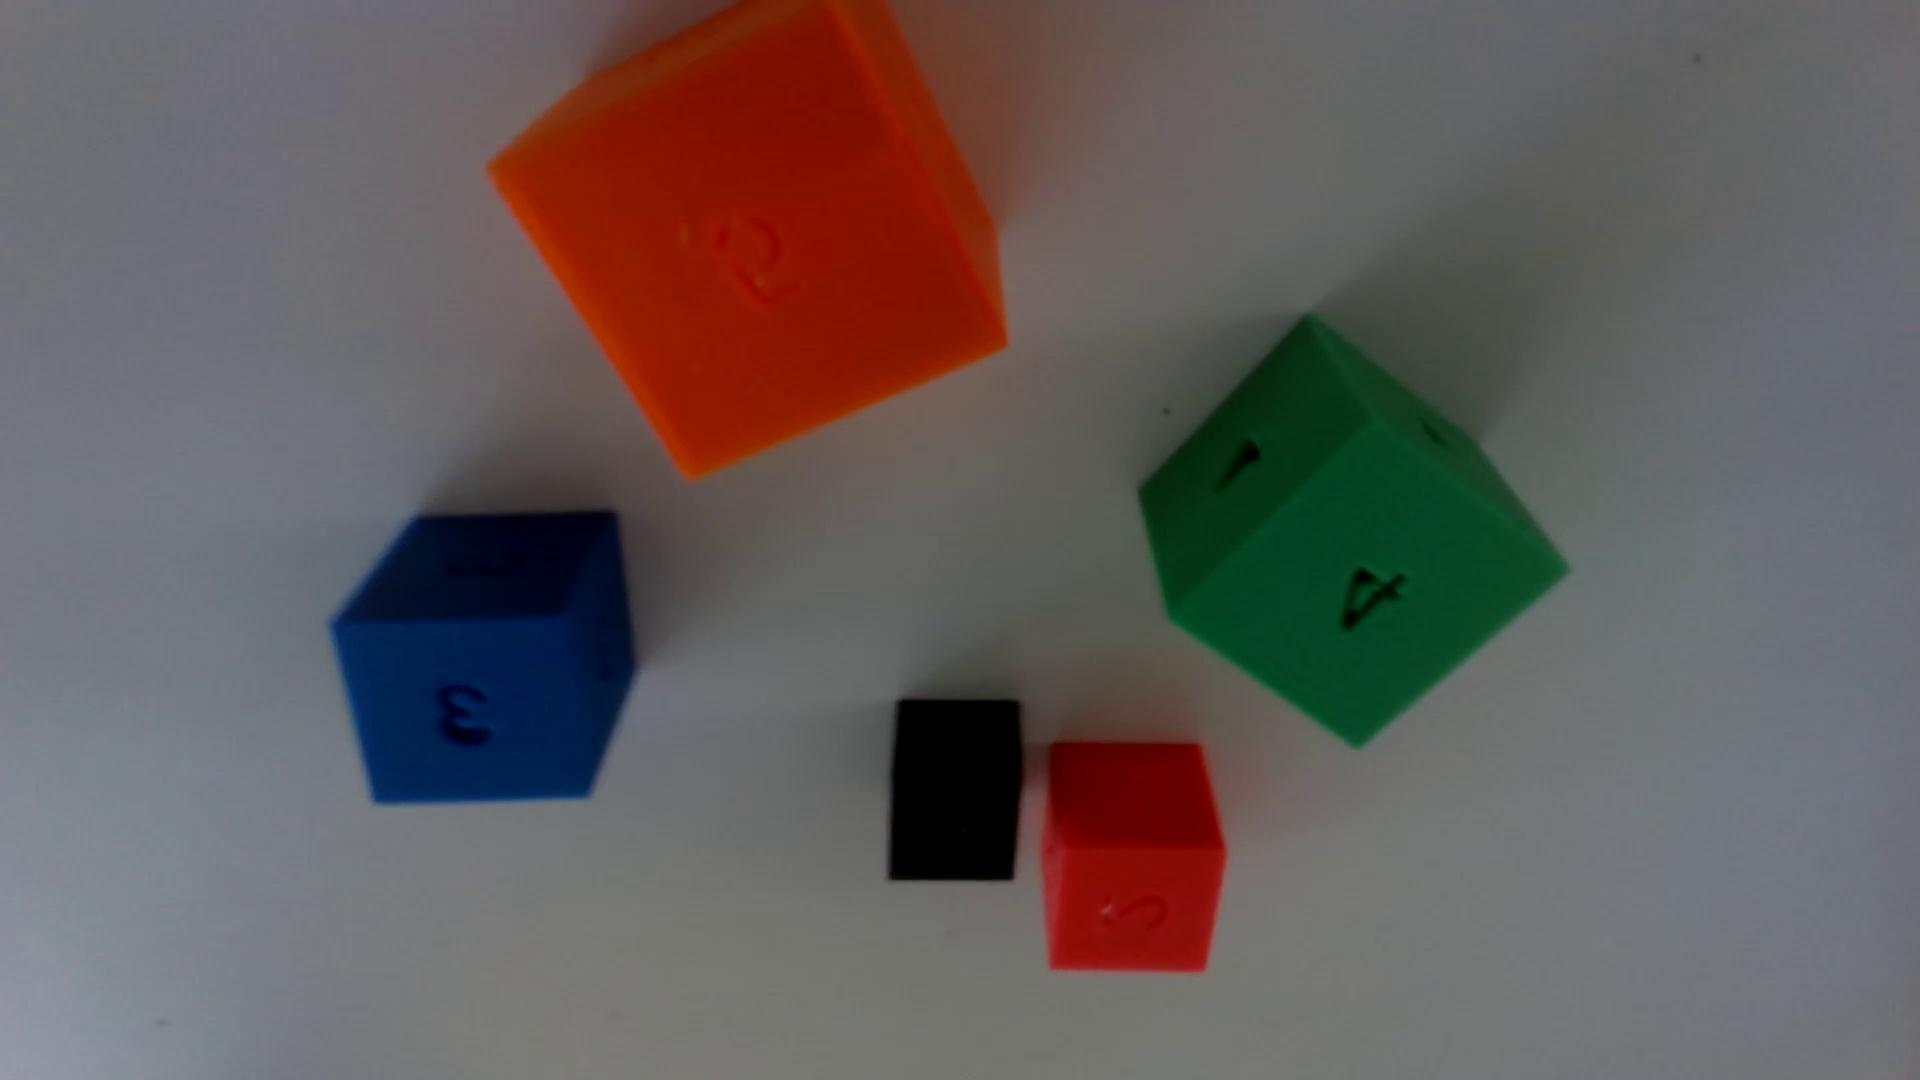black: (886, 696, 1025, 881)
blue: (330, 510, 636, 804)
green: (1139, 318, 1567, 745)
orange: (489, 0, 1007, 476)
red: (1040, 740, 1226, 971)
